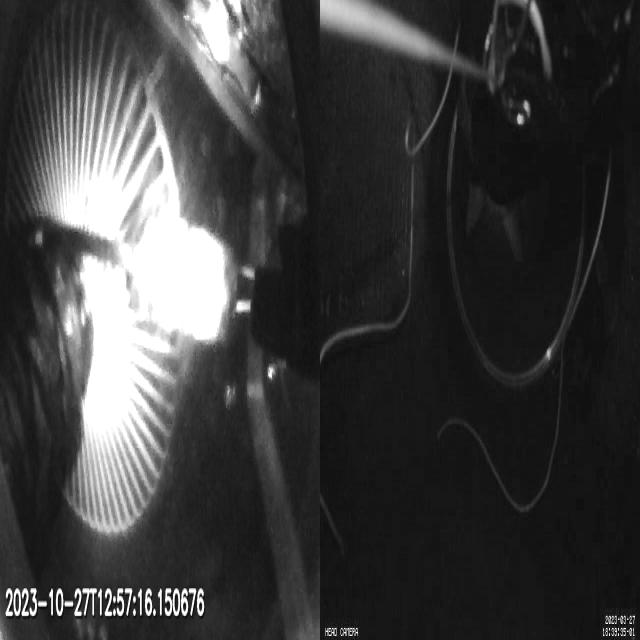head: (138, 212, 236, 347)
